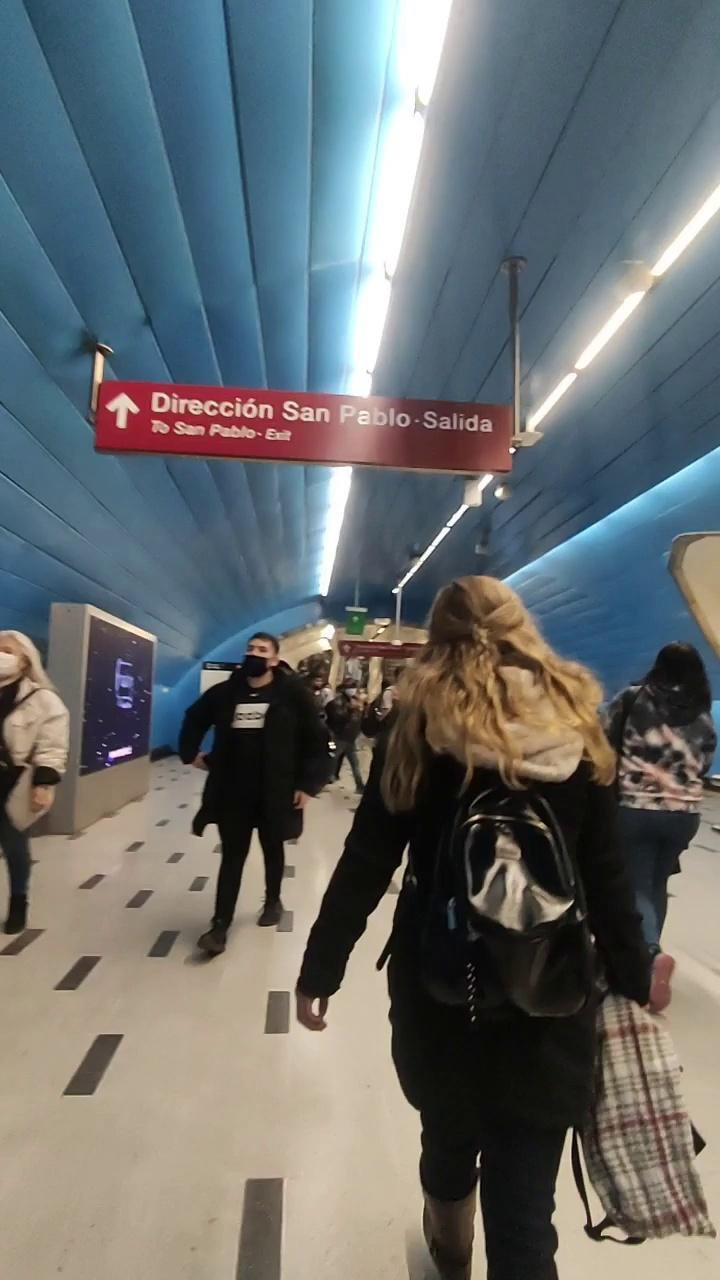up arrow: (107, 388, 141, 445)
